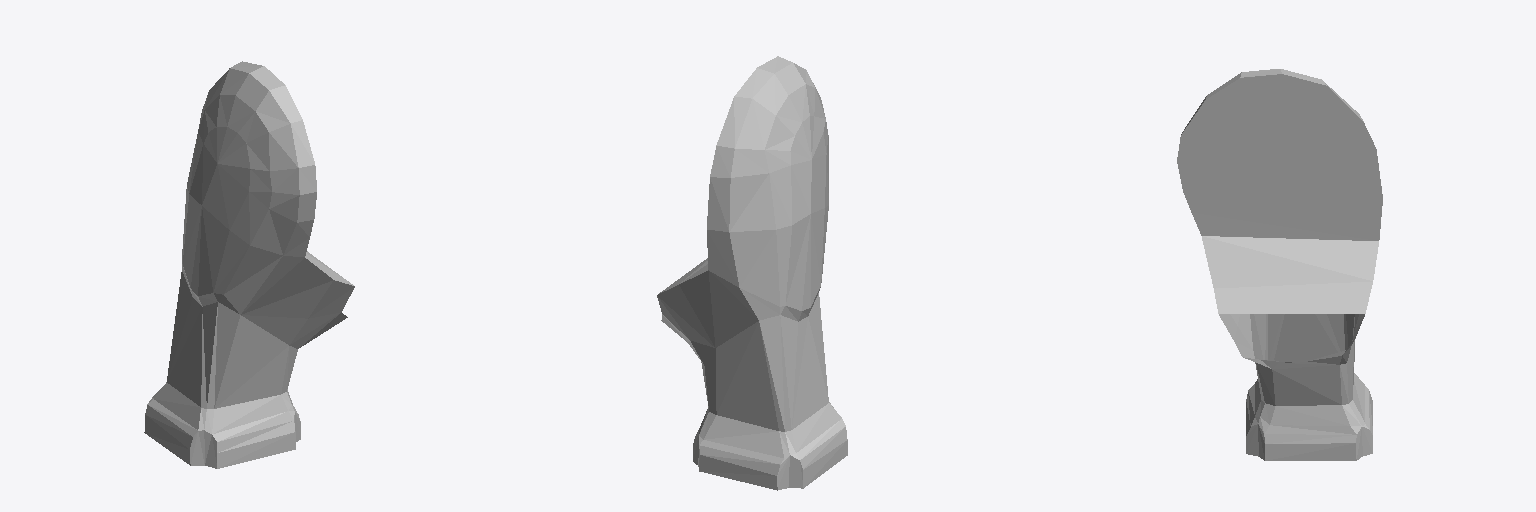
The model's file is DewbackBRightLeg.obj.
3 renders of one model, left to right at view 1: azimuth 30°, elevation 25°; view 2: azimuth 150°, elevation 25°; view 3: azimuth 270°, elevation 25°, orthographic.
Parts seen in each view (by area): view 1: Mesh_0107_Mesh_0107Mesh.001_Mesh_0107_Mesh_0107Mesh.002; view 2: Mesh_0107_Mesh_0107Mesh.001_Mesh_0107_Mesh_0107Mesh.002; view 3: Mesh_0107_Mesh_0107Mesh.001_Mesh_0107_Mesh_0107Mesh.002.
Boxes of the visible parts, <box> form: Mesh_0107_Mesh_0107Mesh.001_Mesh_0107_Mesh_0107Mesh.002: <box>144,61,354,468</box>; Mesh_0107_Mesh_0107Mesh.001_Mesh_0107_Mesh_0107Mesh.002: <box>657,56,847,490</box>; Mesh_0107_Mesh_0107Mesh.001_Mesh_0107_Mesh_0107Mesh.002: <box>1177,69,1382,460</box>.
Bounding box in the file's own units: 0.1962 × 0.4762 × 0.2383.